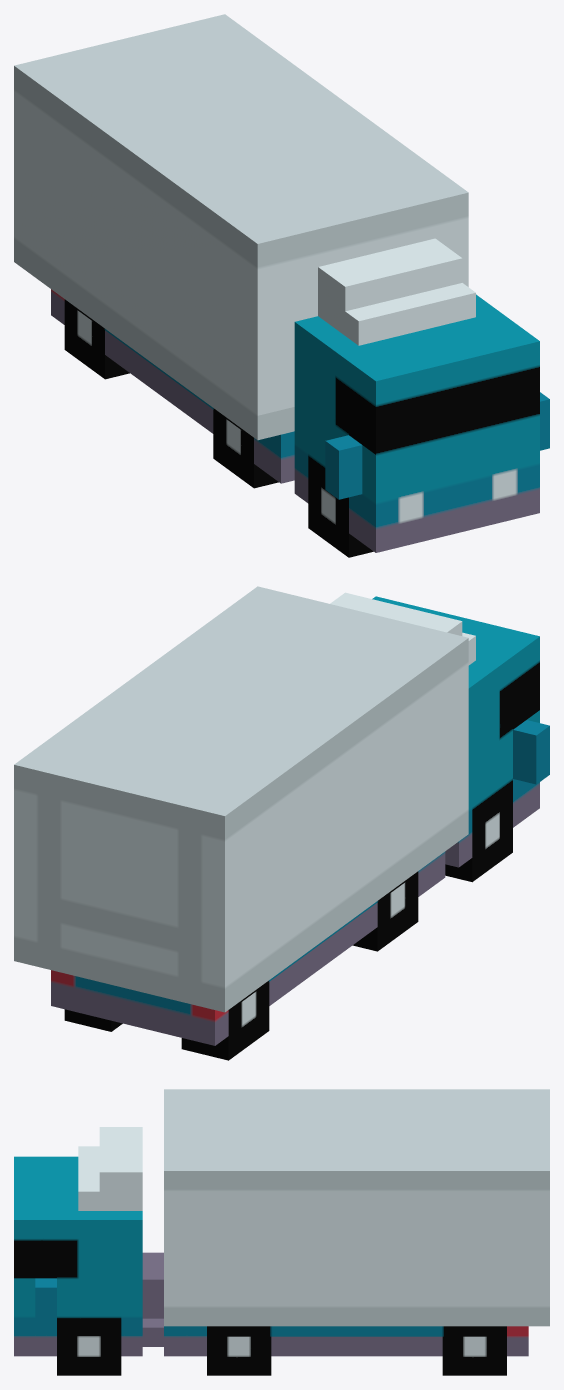
The model's file is Truck02.fbx.
3 renders of one model, top to bottom at view 1: azimuth 30°, elevation 25°; view 2: azimuth 150°, elevation 25°; view 3: azimuth 270°, elevation 25°, orthographic. The views are drawn at different scales.
Visible parts, largest first — view 1: truck_blue; view 2: truck_blue; view 3: truck_blue.
Boxes of the visible parts, box(x1,y1,x2,y2) form: truck_blue: box(14, 14, 549, 557); truck_blue: box(14, 586, 549, 1060); truck_blue: box(14, 1089, 549, 1375).
Bounding box in the file's own units: 108 × 132 × 300.
